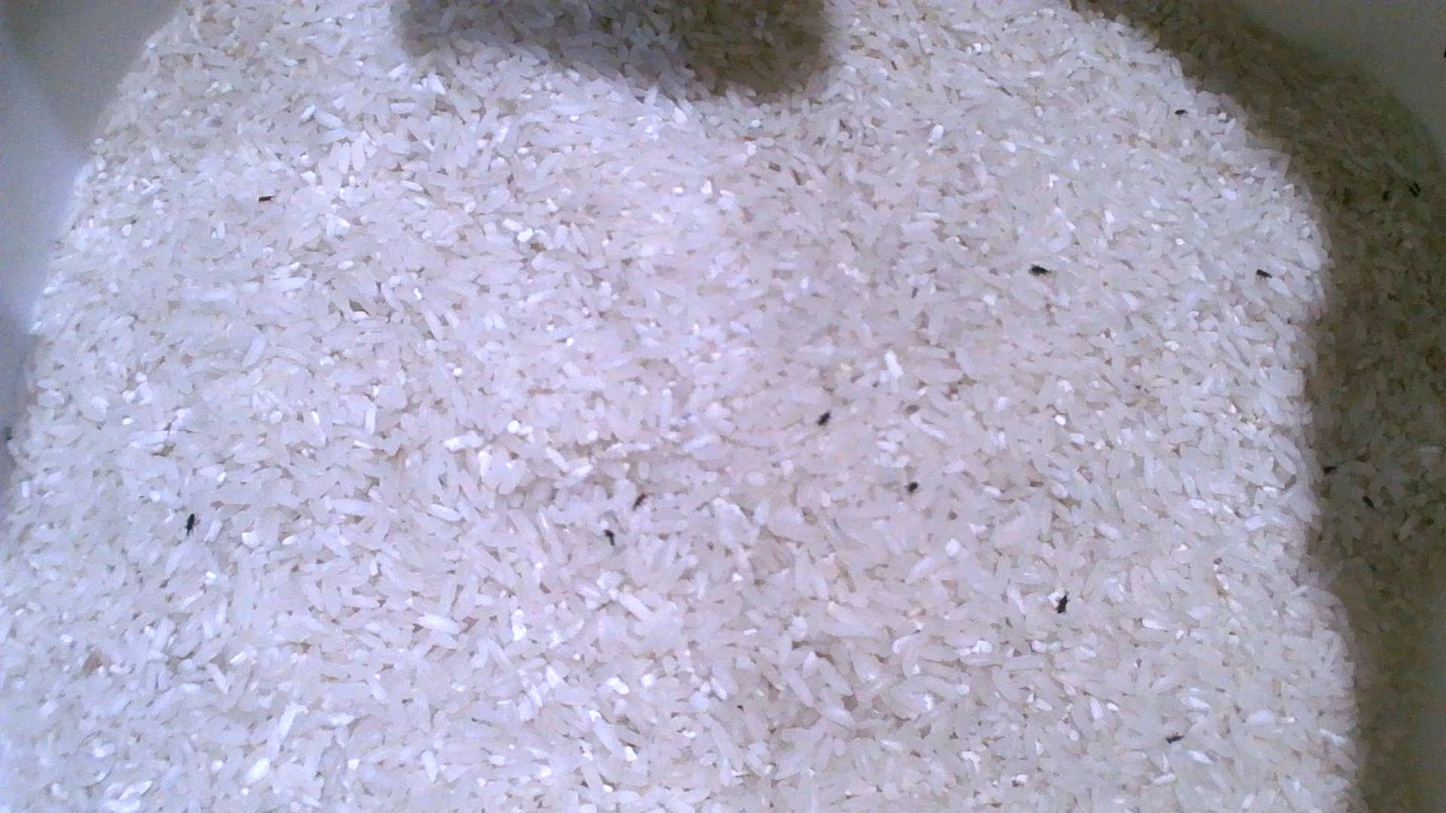Sitophilus-Oryzae: (1055, 592, 1069, 614), (632, 492, 648, 510), (1029, 264, 1051, 276), (185, 513, 197, 534), (816, 410, 831, 426), (1408, 181, 1422, 196), (1255, 269, 1272, 279), (1165, 734, 1182, 744), (1362, 495, 1374, 507)
